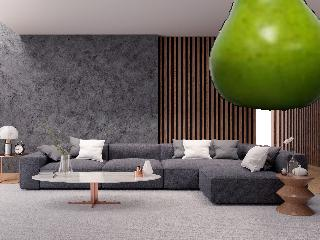pear: (210, 0, 320, 109)
